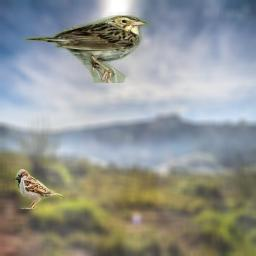Sparrow: (23, 12, 153, 83), (15, 169, 64, 209)
